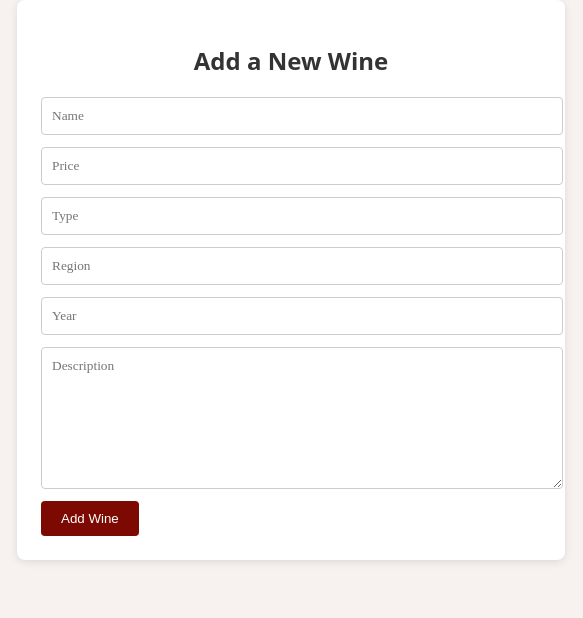
Test case: submits new product form
// Simulate a user filling out the form inputs
Type "Test Wine" into the field with placeholder "Name". click: (302, 116)
box: [41,97,563,135]
Type "20" into the number field with placeholder "Price". click: (302, 166)
box: [41,147,563,185]
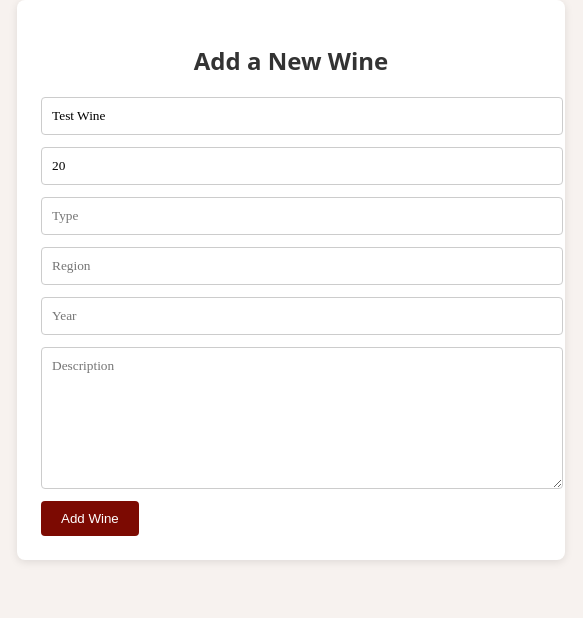
Type "Red" into the field with placeholder "Type". click: (302, 216)
box: [41,197,563,235]
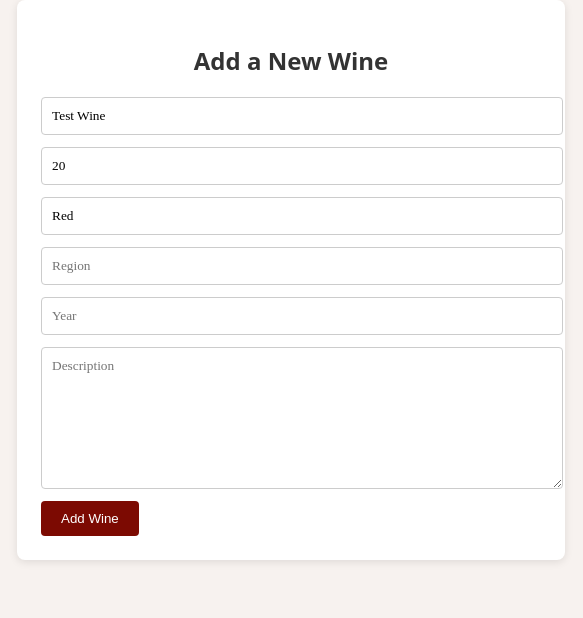
Type "Napa" into the field with placeholder "Region". click: (302, 266)
box: [41,247,563,285]
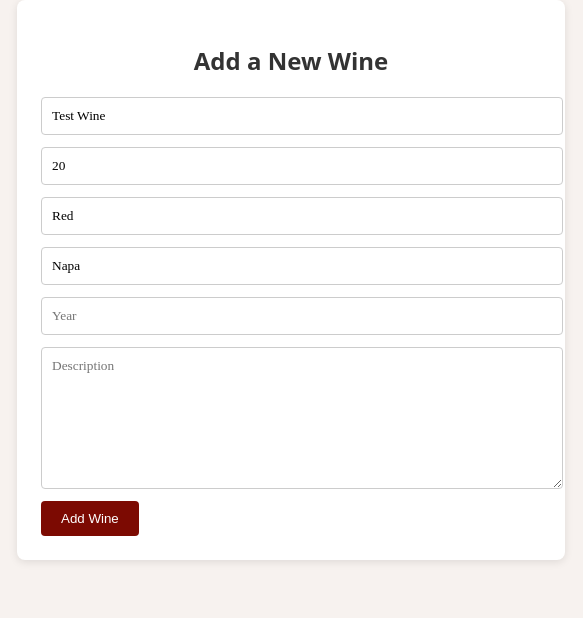
Type "2022" into the number field with placeholder "Year". click: (302, 316)
box: [41,297,563,335]
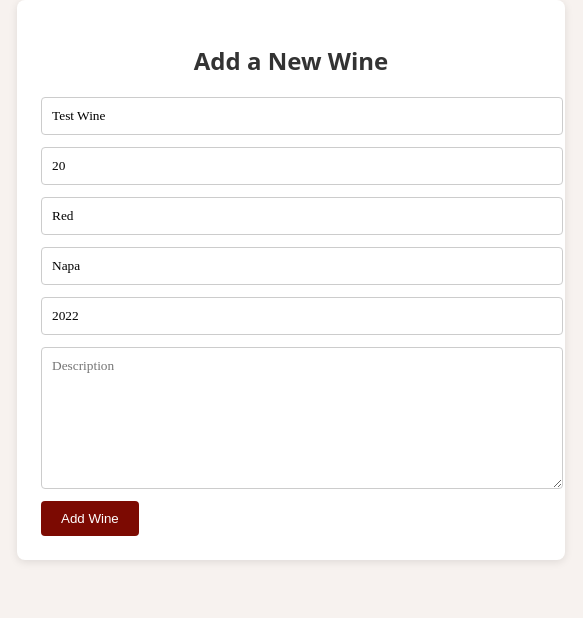
Type "Delicious!" into the text box with placeholder "Description". click: (302, 418)
box: [41,347,563,489]
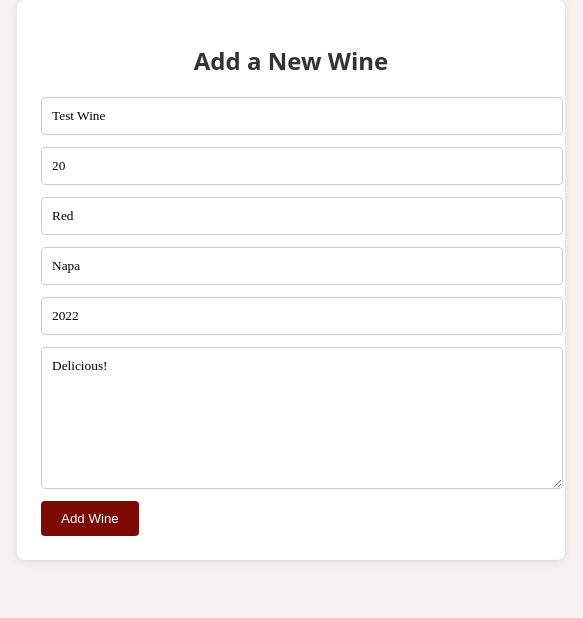
// Simulate the user clicking the submit button
Click the button "Add Wine". click: (90, 518)
box: [41,501,139,536]
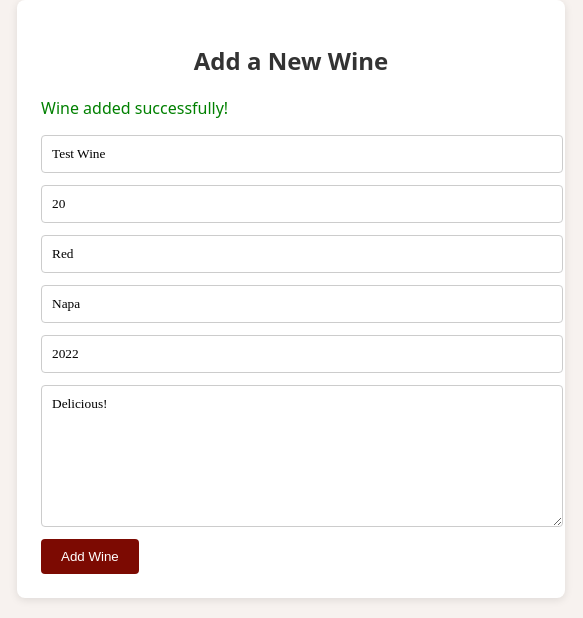
Expected: the text "Wine added successfully!" is shown, [41,97,228,119]
